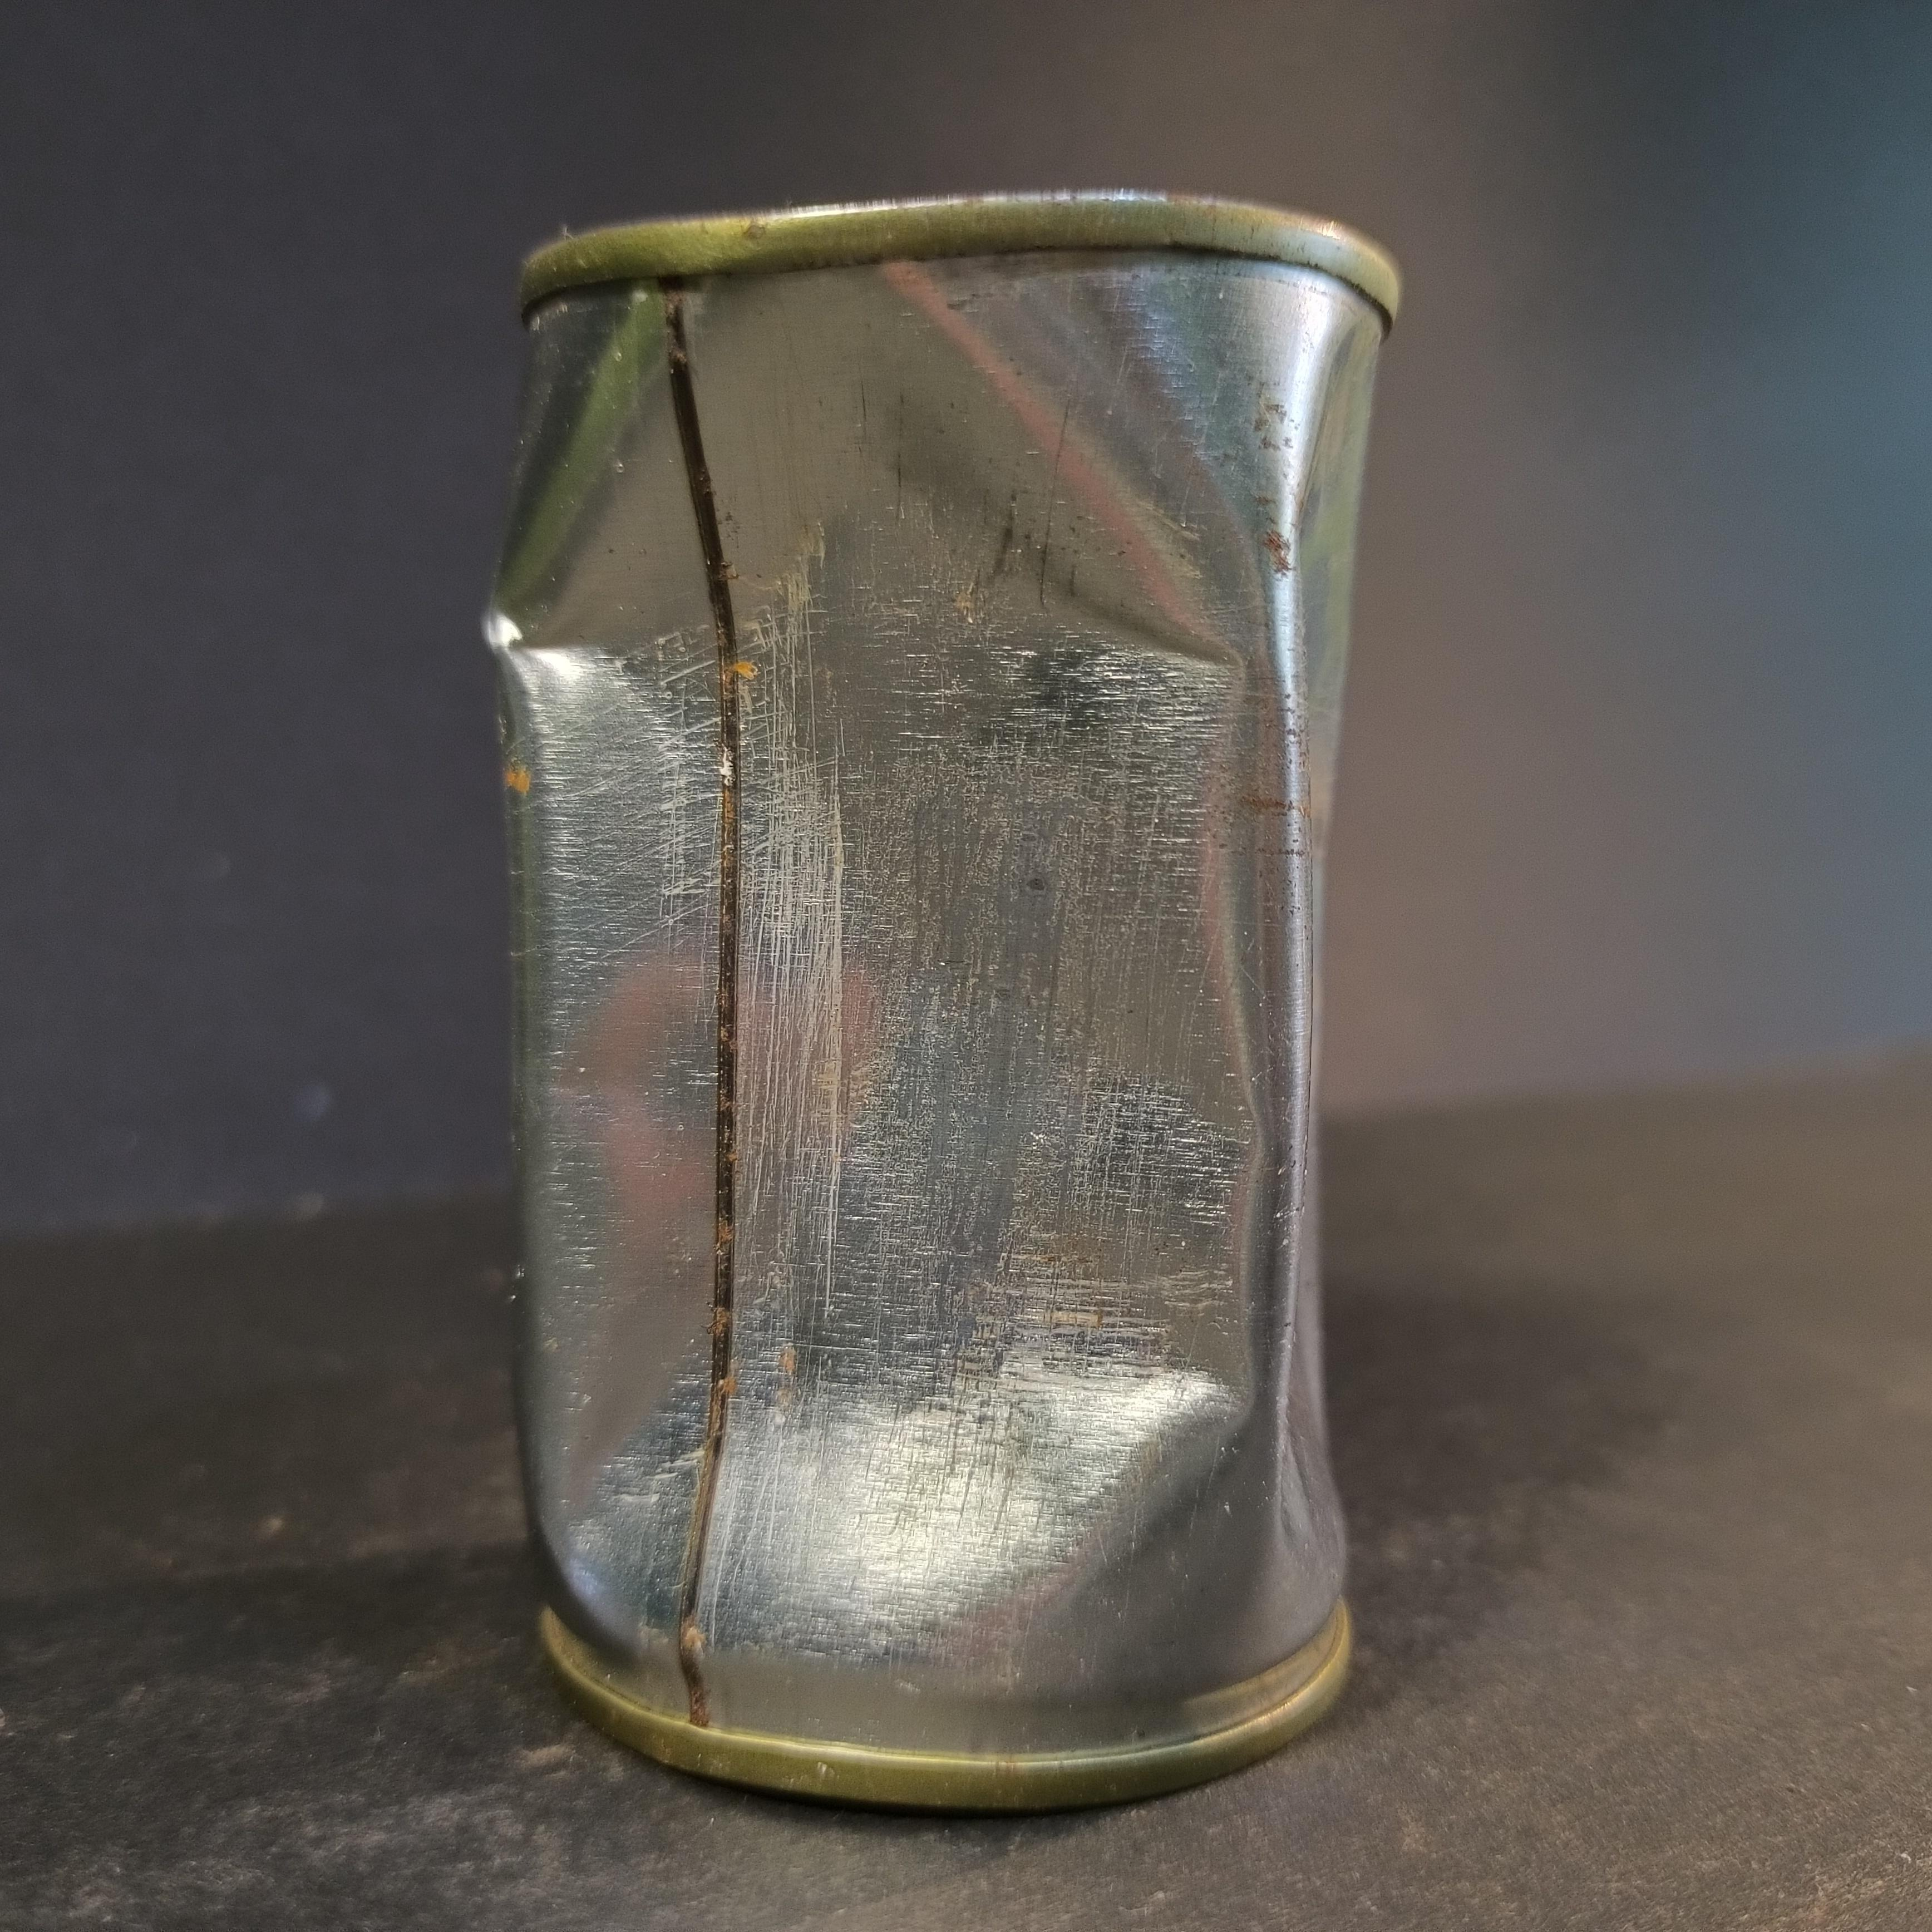Dented: (462, 147, 1463, 1822)
